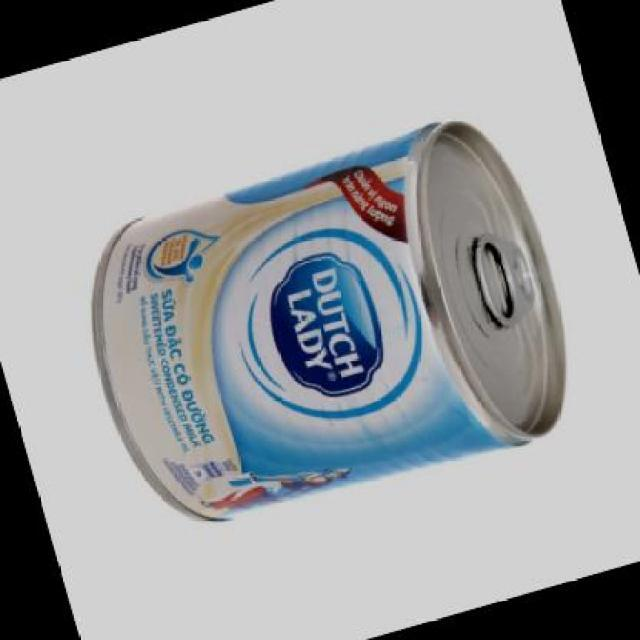recyclable: (50, 92, 602, 557)
